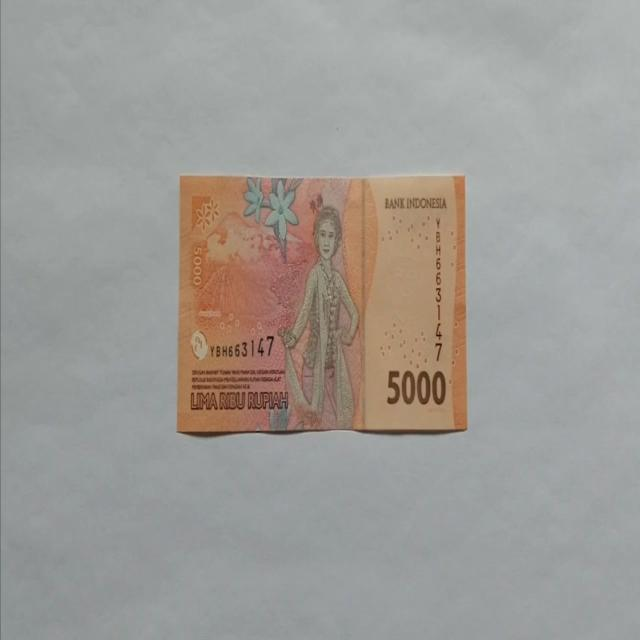lima ribu rupiah: (177, 172, 468, 436), (276, 204, 360, 430)
